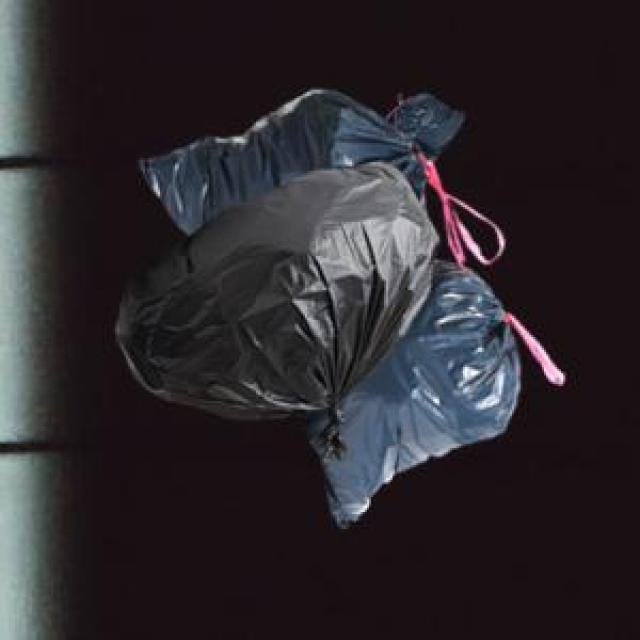Trashbag: (97, 156, 437, 442)
